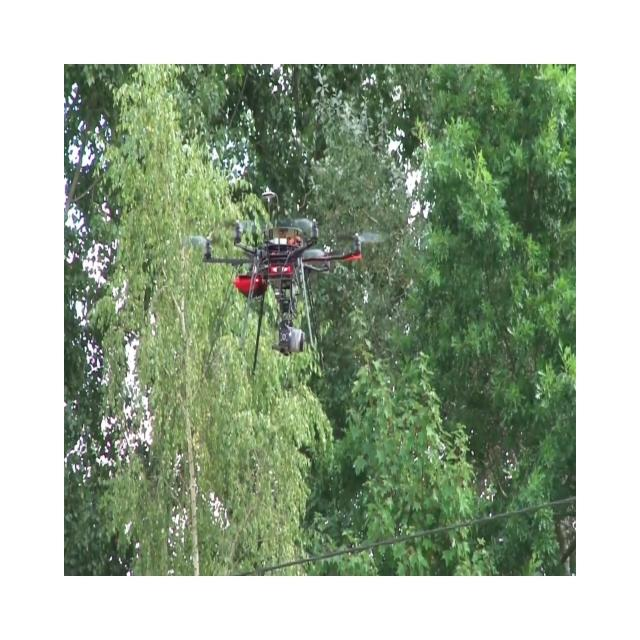drone: (181, 187, 364, 376)
